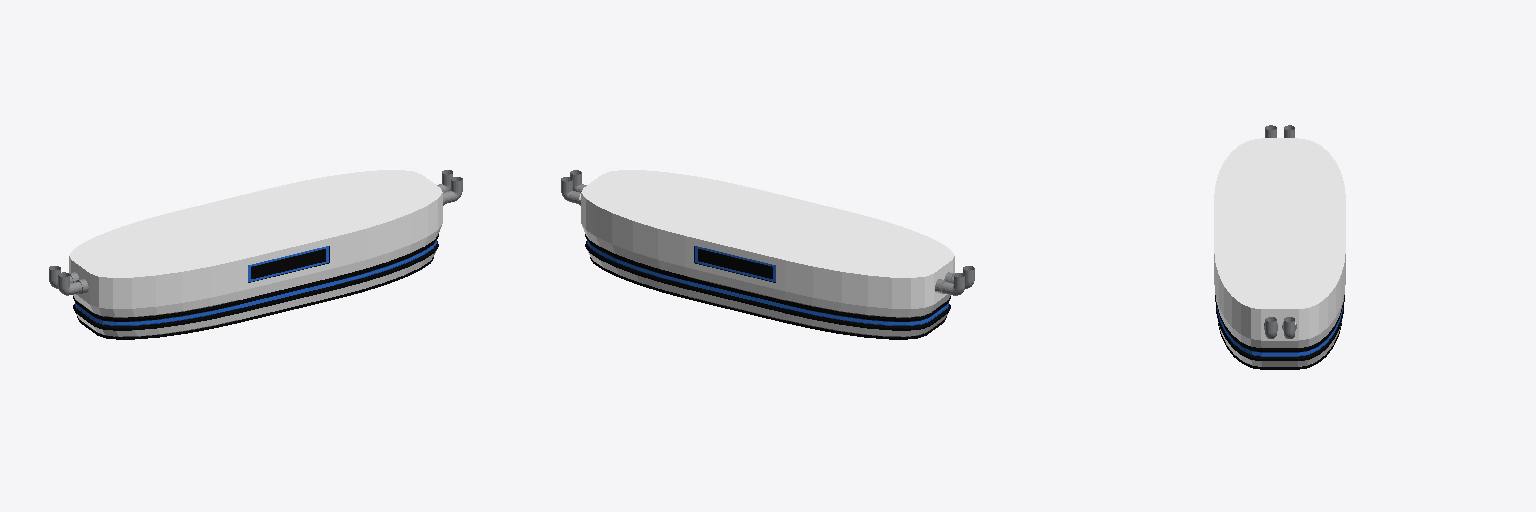
The picture shows the model from 3 angles: view 1: azimuth 30°, elevation 25°; view 2: azimuth 150°, elevation 25°; view 3: azimuth 270°, elevation 25°; orthographic projection.
Parts seen in each view (by area): view 1: NadStolik.NR1.001_Cube.039; view 2: NadStolik.NR1.001_Cube.039; view 3: NadStolik.NR1.001_Cube.039.
Boxes of the visible parts, x1=… form: NadStolik.NR1.001_Cube.039: x1=49, y1=170, x2=462, y2=339; NadStolik.NR1.001_Cube.039: x1=561, y1=170, x2=974, y2=339; NadStolik.NR1.001_Cube.039: x1=1214, y1=125, x2=1345, y2=369.
Size of the model in its own units: 10.14 by 1.56 by 2.88.
1 materials, 1 textured.